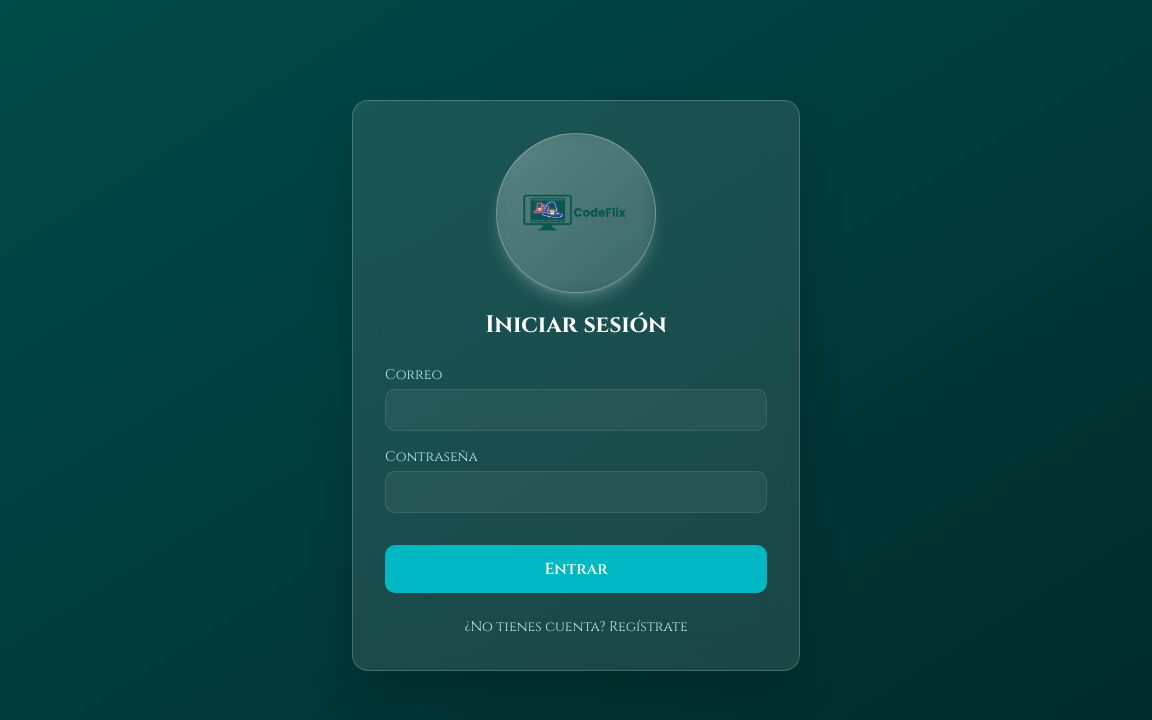
Scenario: cambia al modo registro al hacer clic en el link
Click the button "¿No tienes cuenta? Regístrate": (576, 627) [385,617,767,637]
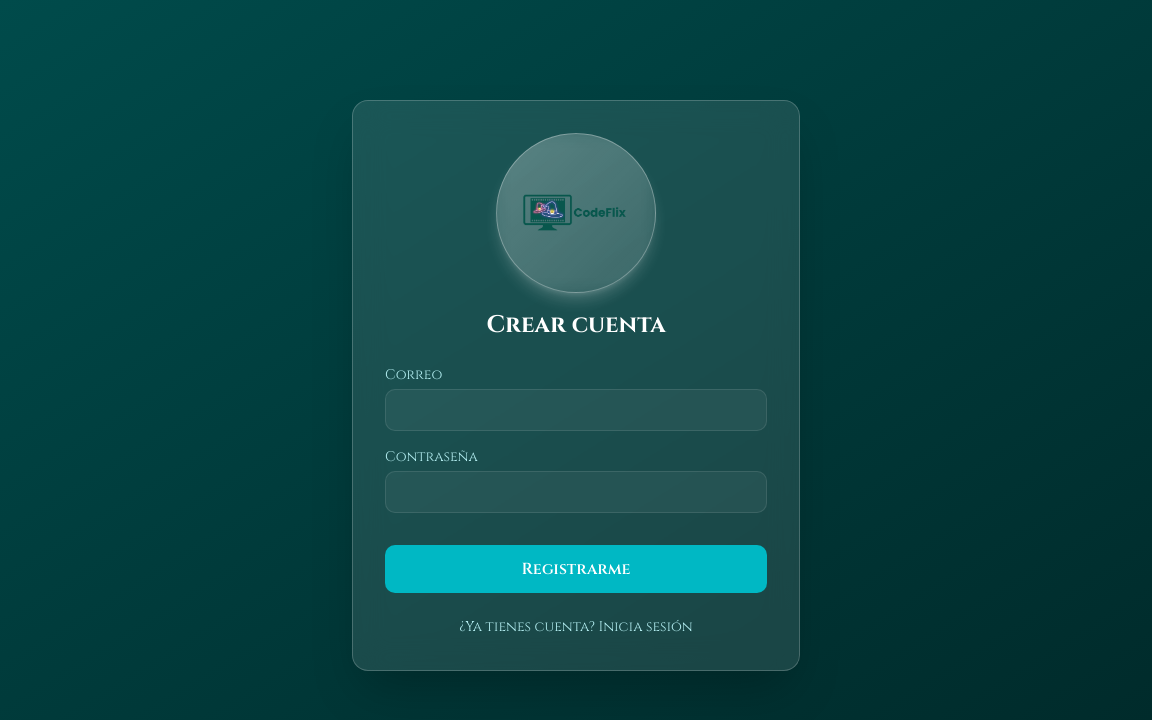
Expected: the heading "Crear cuenta" is shown, [486,309,666,341]
Expected: the button "Registrarme" is shown, [385,545,767,593]
